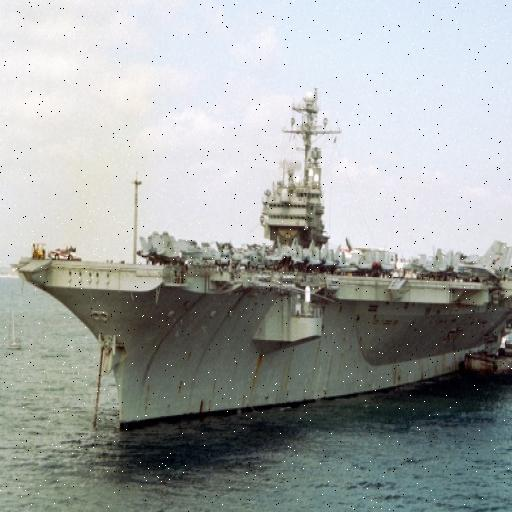Portanaves: (18, 65, 512, 442)
